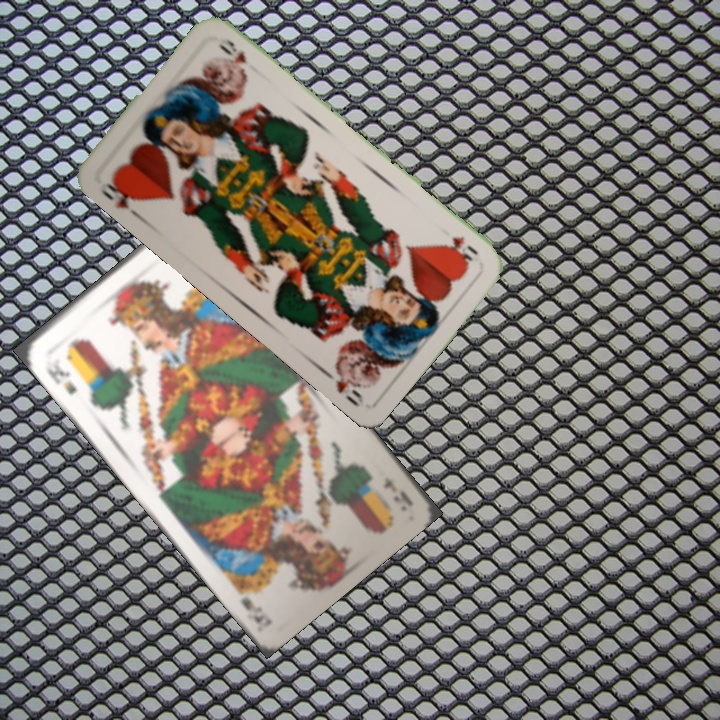EK: (41, 354, 80, 398), (379, 473, 415, 508)
HO: (95, 170, 143, 221), (447, 232, 481, 264)
